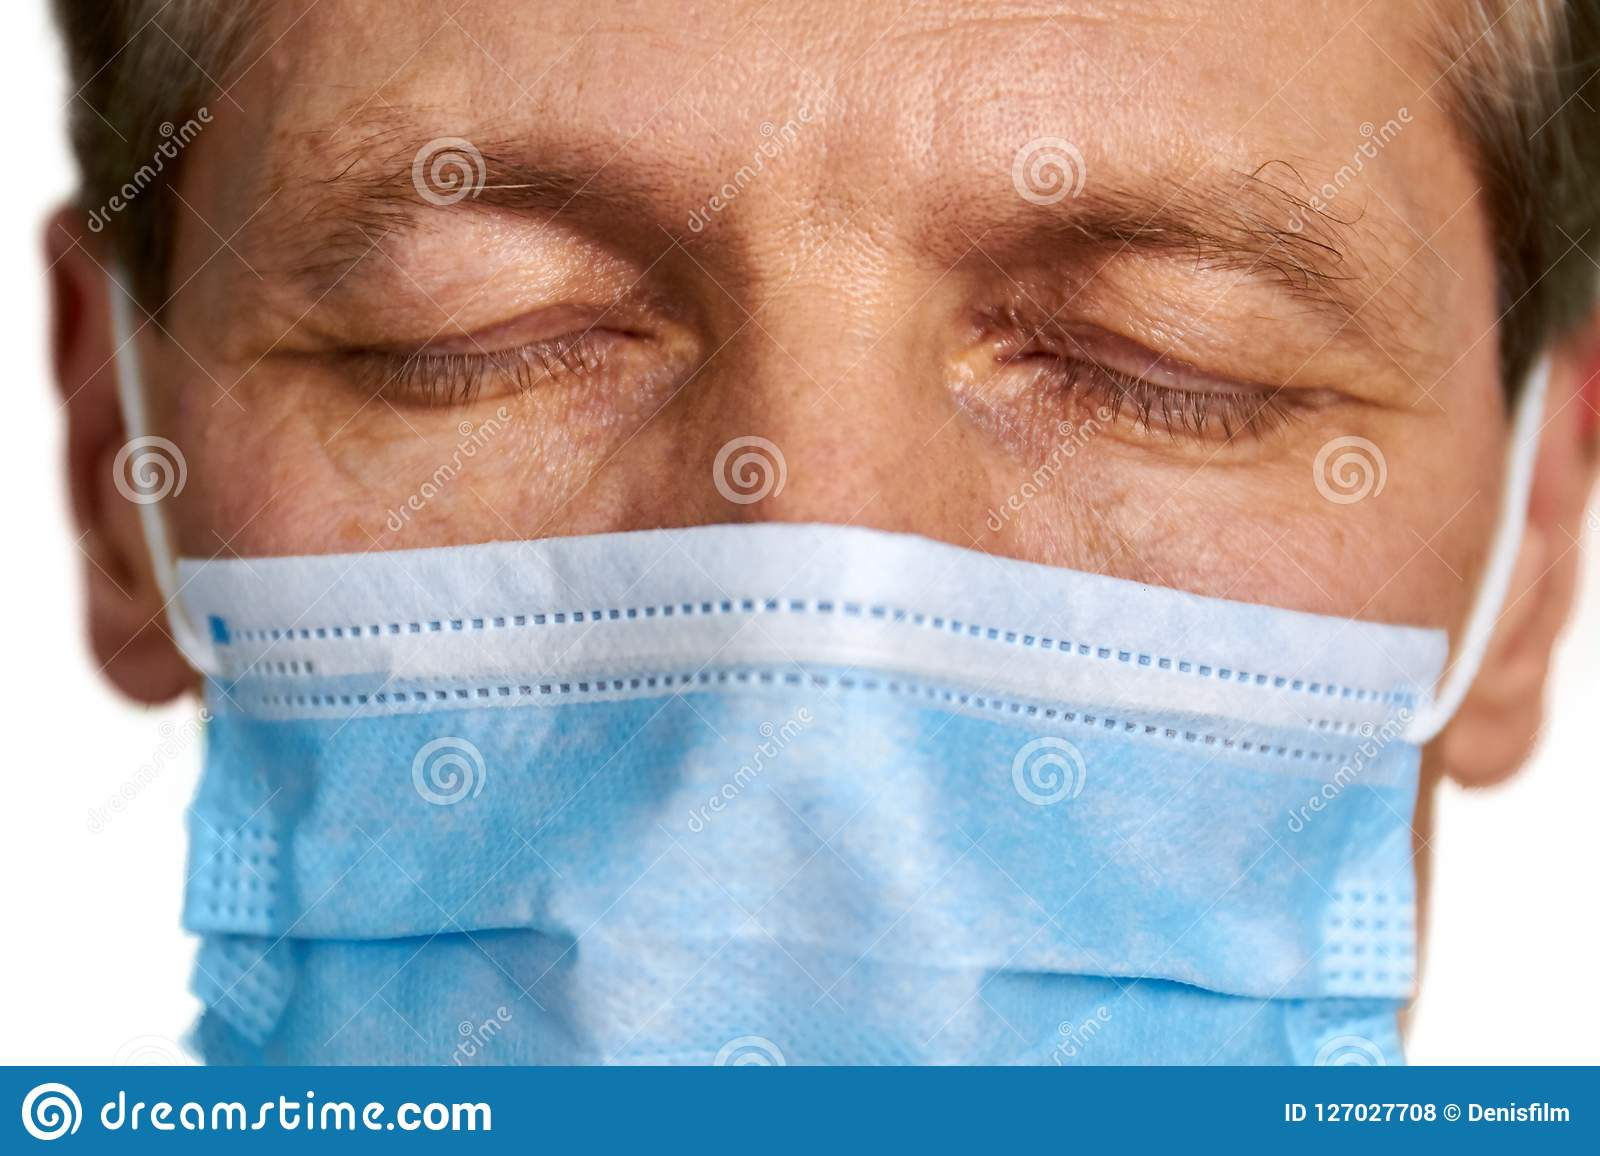mask: (127, 520, 1437, 1079)
